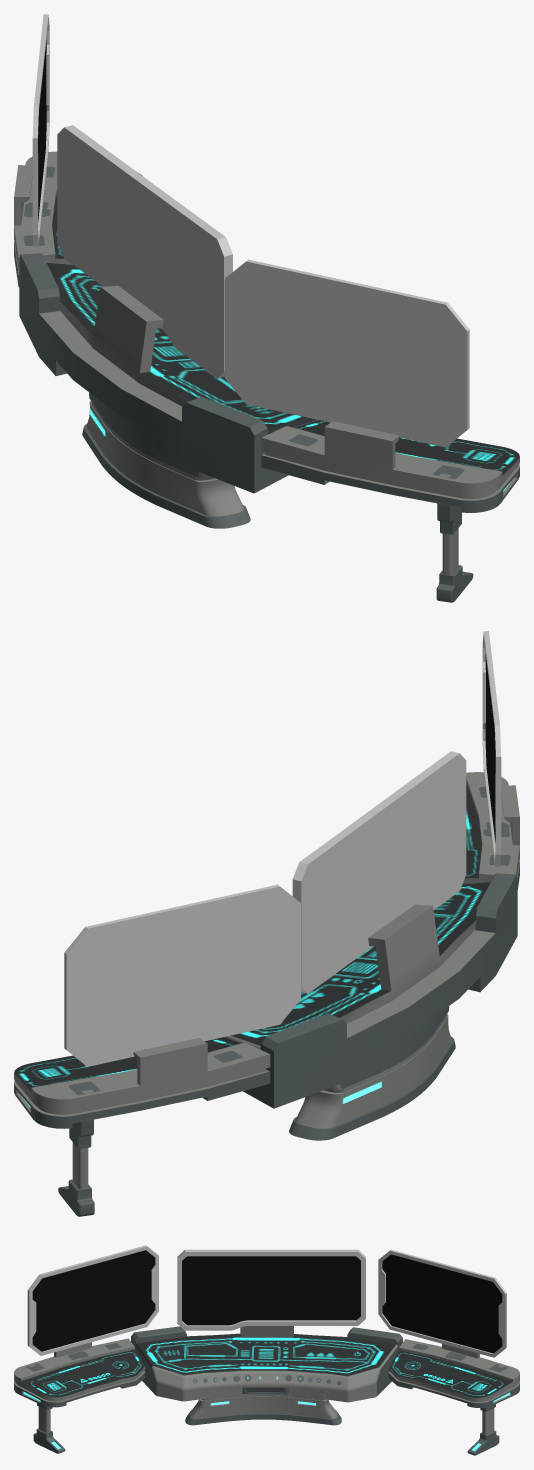
File: scifiPanel.fbx
3 views of the same model, one above another, from view 1: azimuth 30°, elevation 25°; view 2: azimuth 150°, elevation 25°; view 3: azimuth 270°, elevation 25° (orthographic). The views are drawn at different scales.
Parts seen in each view (by area): view 1: Mesh105.005_low, Central_low, Cube.002_low, Side_panel_low, Body_low, Side_panel_low.001, Mesh105.006_low, Bottom_low, Display_down_right, Side_panel_low.005, Side_panel_low.006; view 2: Mesh105.006_low, Central_low, Cube.002_low, Side_panel_low.001, Body_low, Side_panel_low, Mesh105.005_low, Bottom_low, Display_down_left, Side_panel_low.003, Side_panel_low.007; view 3: Central_low, Display_down_centre, Display_down_left, Display_down_right, Side_panel_low, Side_panel_low.001, Body_low, Cube.002_low, Mesh105.005_low, Mesh105.006_low, Bottom_low, Side_panel_low.003 (+3 smaller).
Part boxes in pixels (box(x1,y1,x2,y2)): Mesh105.005_low: box(224, 259, 469, 447); Central_low: box(19, 253, 317, 493); Cube.002_low: box(57, 125, 232, 378); Side_panel_low: box(261, 420, 519, 512); Body_low: box(86, 392, 244, 516); Side_panel_low.001: box(14, 151, 142, 286); Mesh105.006_low: box(32, 14, 49, 246); Bottom_low: box(82, 423, 250, 528); Display_down_right: box(38, 40, 46, 221); Side_panel_low.005: box(436, 565, 473, 602); Side_panel_low.006: box(442, 528, 458, 575); Mesh105.006_low: box(64, 884, 300, 1066); Central_low: box(219, 873, 517, 1108); Cube.002_low: box(292, 751, 466, 993); Side_panel_low.001: box(14, 1038, 270, 1128); Body_low: box(295, 1006, 451, 1128); Side_panel_low: box(462, 772, 519, 889); Mesh105.005_low: box(482, 631, 501, 866); Bottom_low: box(289, 1036, 455, 1140); Display_down_left: box(485, 654, 495, 842); Side_panel_low.003: box(58, 1179, 94, 1216); Side_panel_low.007: box(72, 1142, 88, 1189); Central_low: box(131, 1326, 402, 1402); Display_down_centre: box(182, 1256, 360, 1325); Display_down_left: box(32, 1250, 154, 1351); Display_down_right: box(382, 1254, 502, 1353); Side_panel_low: box(14, 1338, 145, 1407); Side_panel_low.001: box(388, 1339, 519, 1407); Body_low: box(190, 1387, 337, 1418); Cube.002_low: box(177, 1249, 365, 1330); Mesh105.005_low: box(27, 1245, 158, 1355); Mesh105.006_low: box(378, 1249, 506, 1357); Bottom_low: box(185, 1410, 341, 1425); Side_panel_low.003: box(467, 1430, 499, 1455).
Size of the model in its own units: 114 by 139 by 379.
